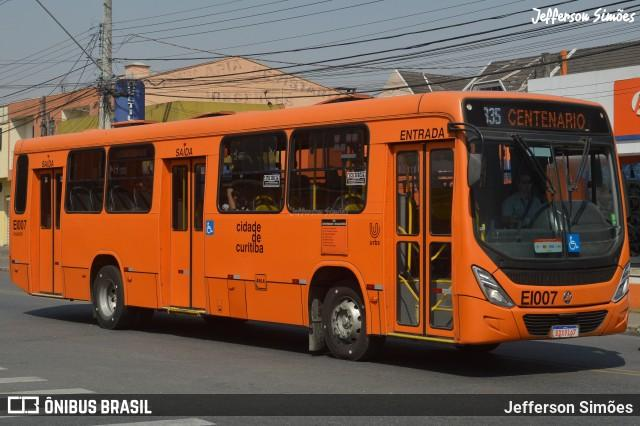CENTENARIO: (504, 104, 589, 133)
